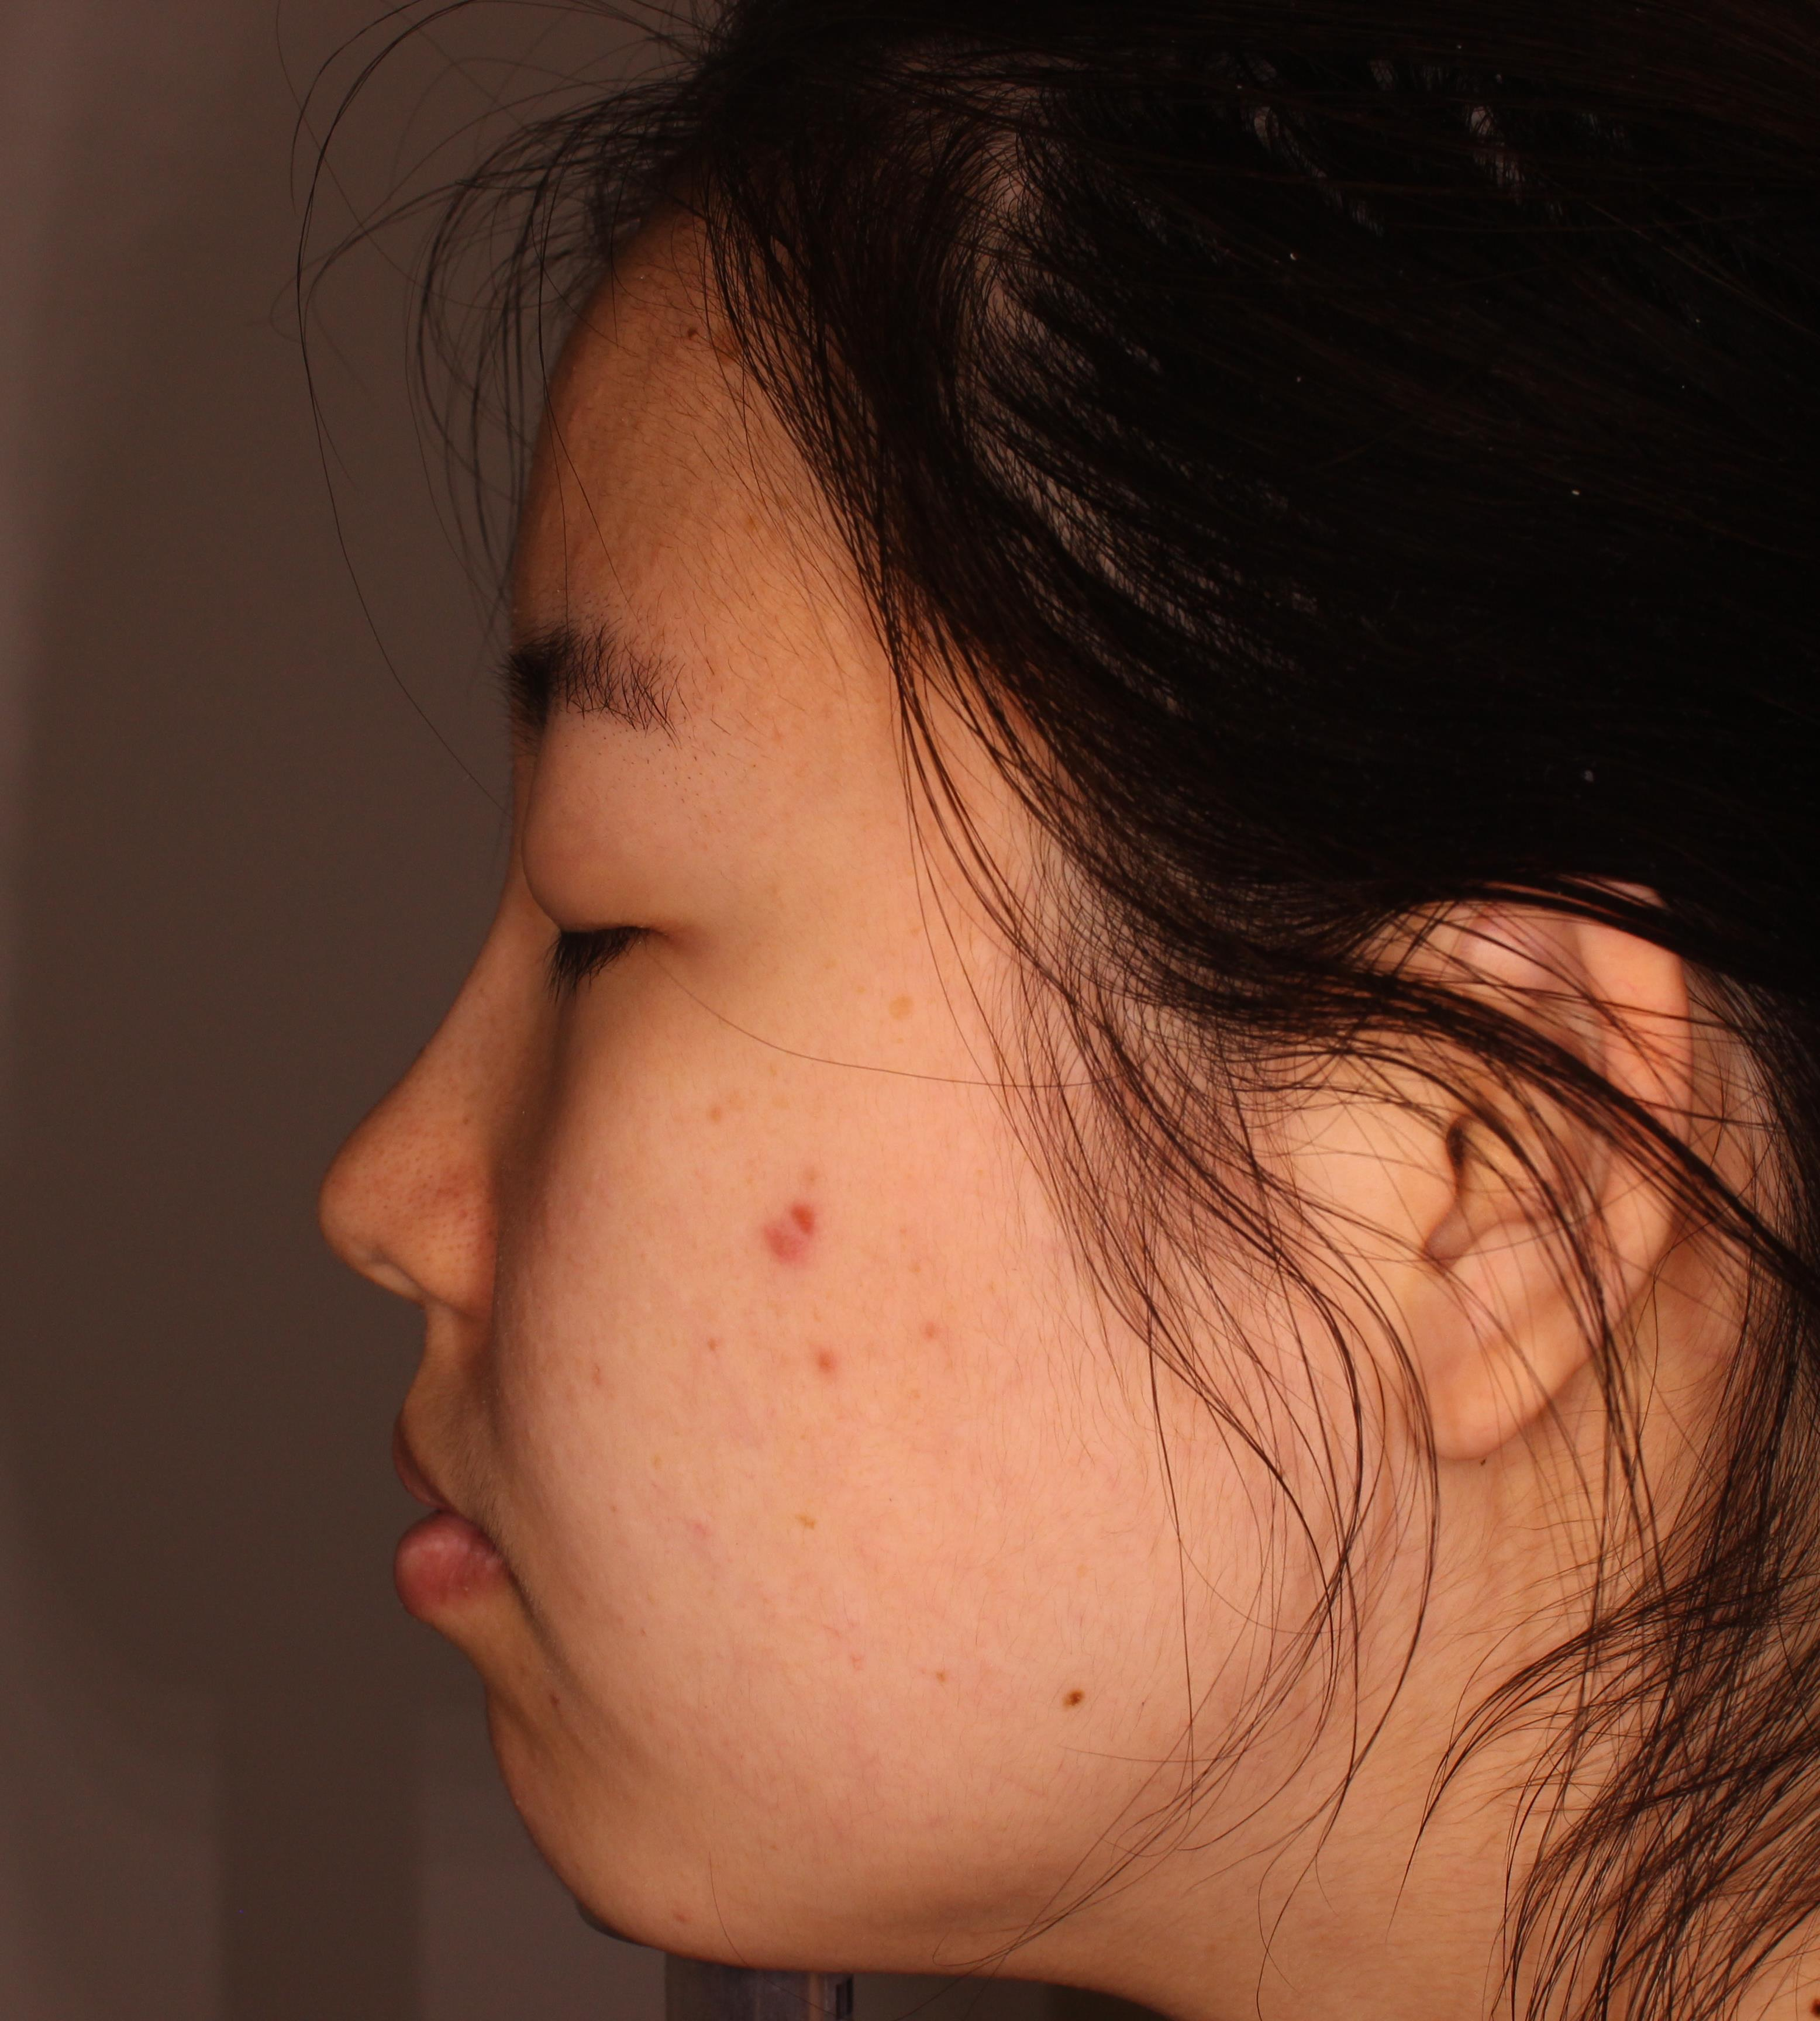fore: (750, 1159, 852, 1285), (750, 1315, 870, 1392)
